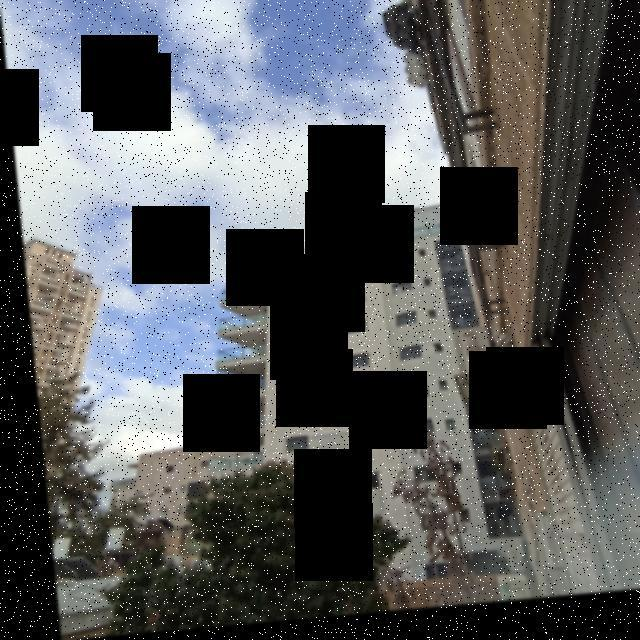Window: (403, 515, 433, 539), (401, 468, 432, 490), (338, 394, 366, 416), (340, 434, 370, 454), (342, 476, 372, 496), (274, 399, 302, 420), (398, 426, 427, 446), (337, 356, 365, 376), (336, 323, 362, 342), (273, 441, 302, 458), (394, 387, 420, 405), (388, 318, 413, 336), (391, 352, 416, 370), (174, 538, 194, 560), (384, 287, 409, 304), (276, 365, 301, 382), (336, 294, 361, 310), (332, 265, 358, 280), (278, 302, 302, 318), (278, 333, 302, 348), (384, 233, 408, 248), (380, 258, 404, 272), (280, 274, 301, 288), (444, 515, 462, 530), (438, 467, 453, 484), (434, 424, 448, 440), (424, 348, 436, 362), (429, 386, 442, 398), (419, 314, 430, 327), (153, 467, 168, 476), (208, 460, 220, 471), (166, 506, 177, 518), (189, 462, 200, 472), (150, 488, 162, 497), (416, 285, 426, 295), (150, 508, 160, 518), (124, 492, 134, 501), (434, 230, 446, 237), (412, 255, 419, 266), (169, 486, 178, 494), (38, 248, 46, 256), (51, 253, 60, 260), (47, 250, 52, 258), (26, 268, 32, 274), (86, 291, 92, 296), (84, 298, 91, 302), (19, 248, 25, 252), (21, 265, 24, 271)
